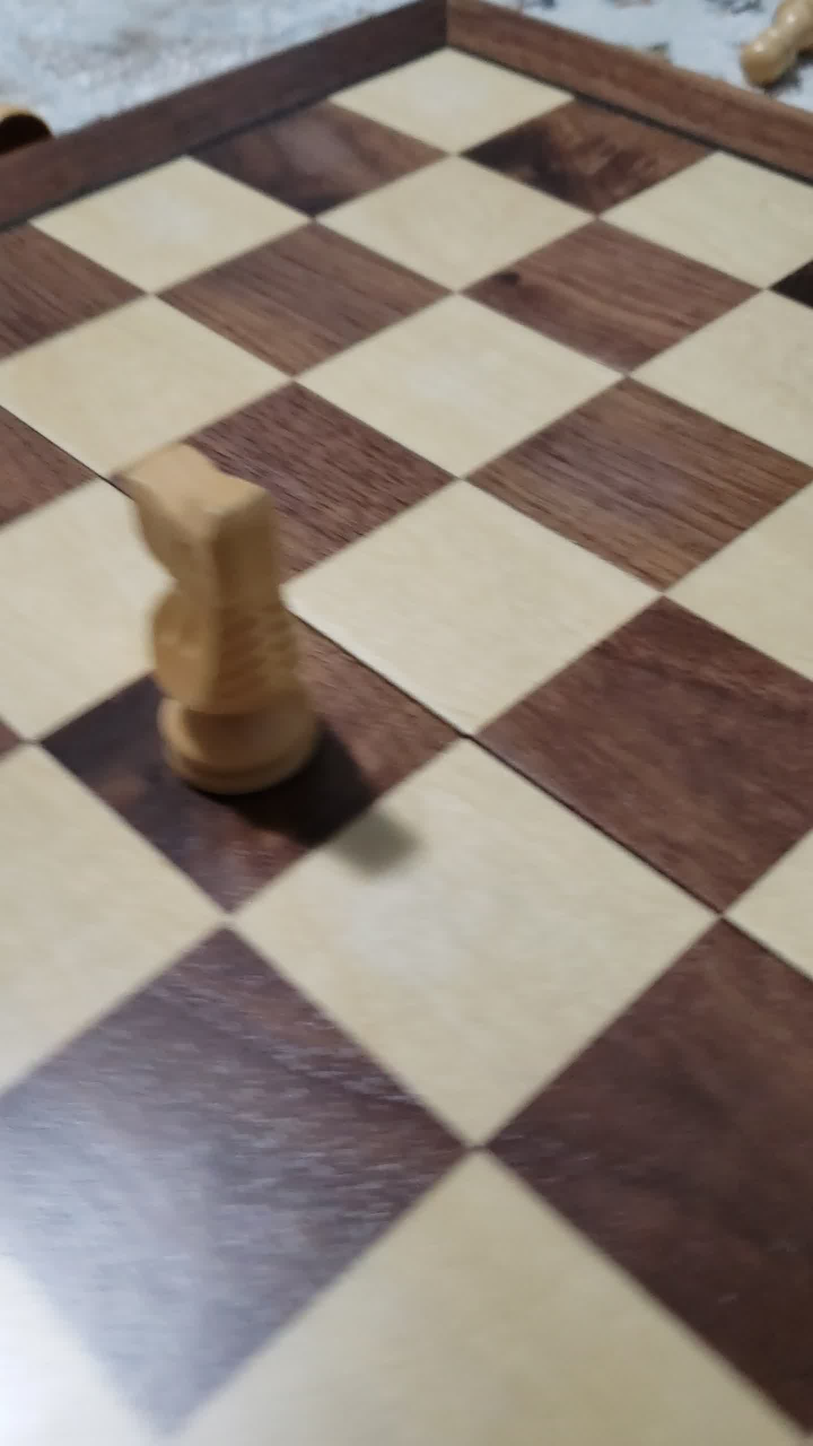white-knight: (65, 435, 379, 829)
